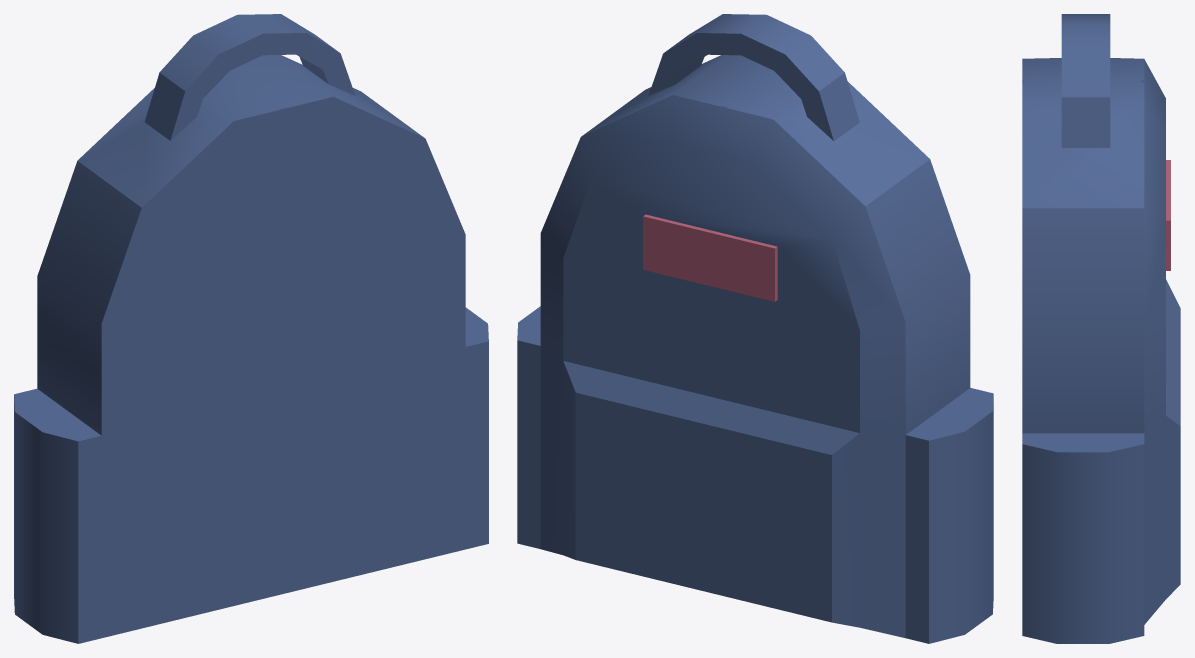
The model's file is playerBag.fbx.
3 views of the same model, side by side, from view 1: azimuth 30°, elevation 25°; view 2: azimuth 150°, elevation 25°; view 3: azimuth 270°, elevation 25° (orthographic). The views are drawn at different scales.
Parts seen in each view (by area): view 1: bag; view 2: bag; view 3: bag.
Part boxes in pixels (x1,y1,x2,y2): bag: [14, 14, 488, 643]; bag: [517, 14, 993, 643]; bag: [1022, 14, 1180, 643].
Bounding box in the file's own units: 62.99 × 73.65 × 20.49.
